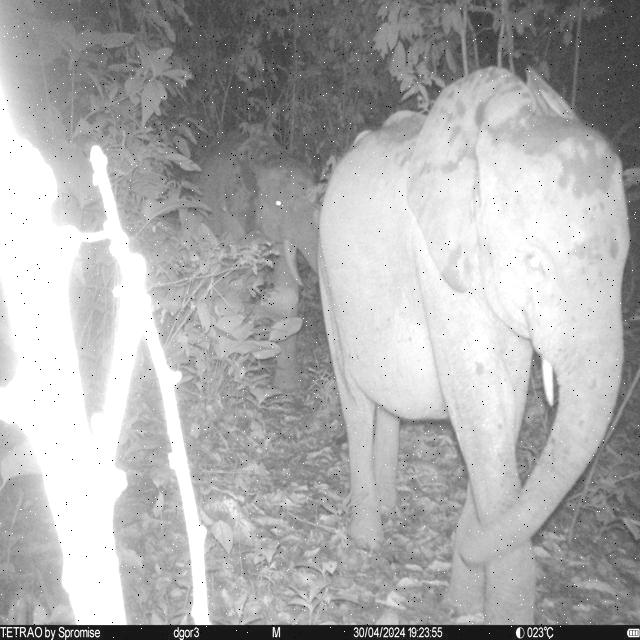calf: (314, 63, 632, 622), (192, 133, 320, 395)
ear: (408, 62, 534, 296), (226, 133, 282, 221)
tusk: (285, 240, 305, 288), (540, 361, 556, 406)
